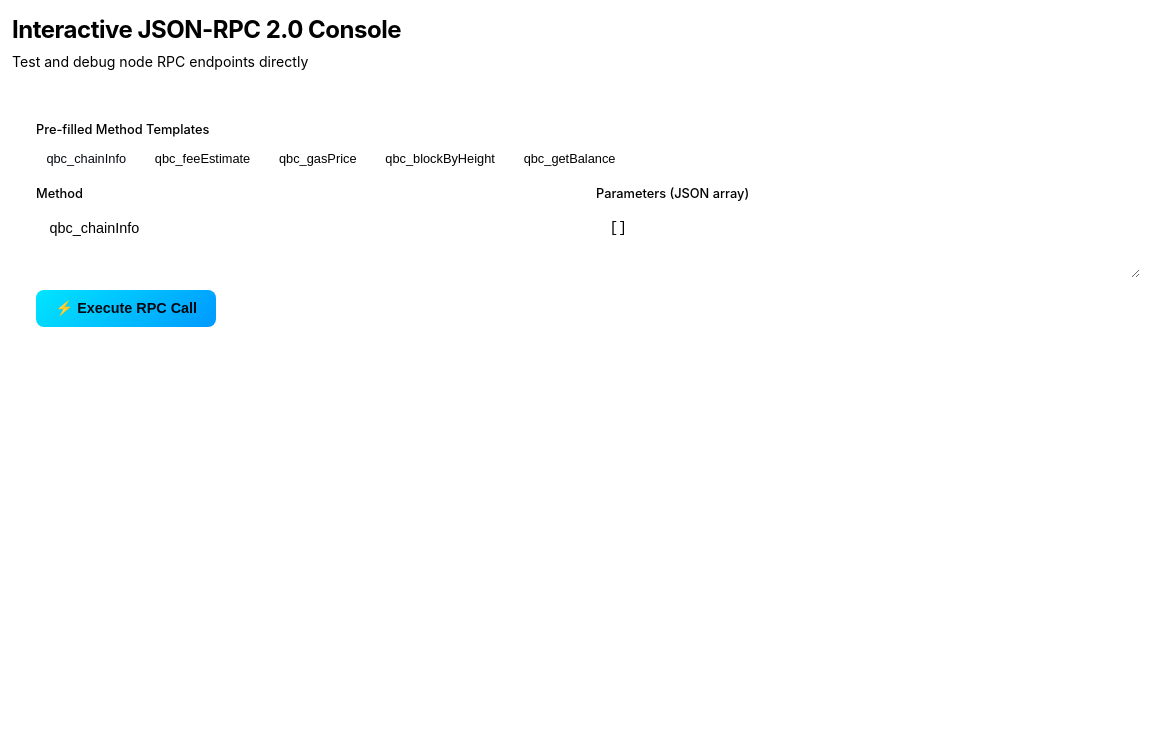
Scenario: React Component Suite (TDD) › RpcConsoleTab executes custom RPC method and displays result
The image size is (1164, 732).
Click the button "⚡ Execute RPC Call" at (126, 308), box [36,290,216,327]
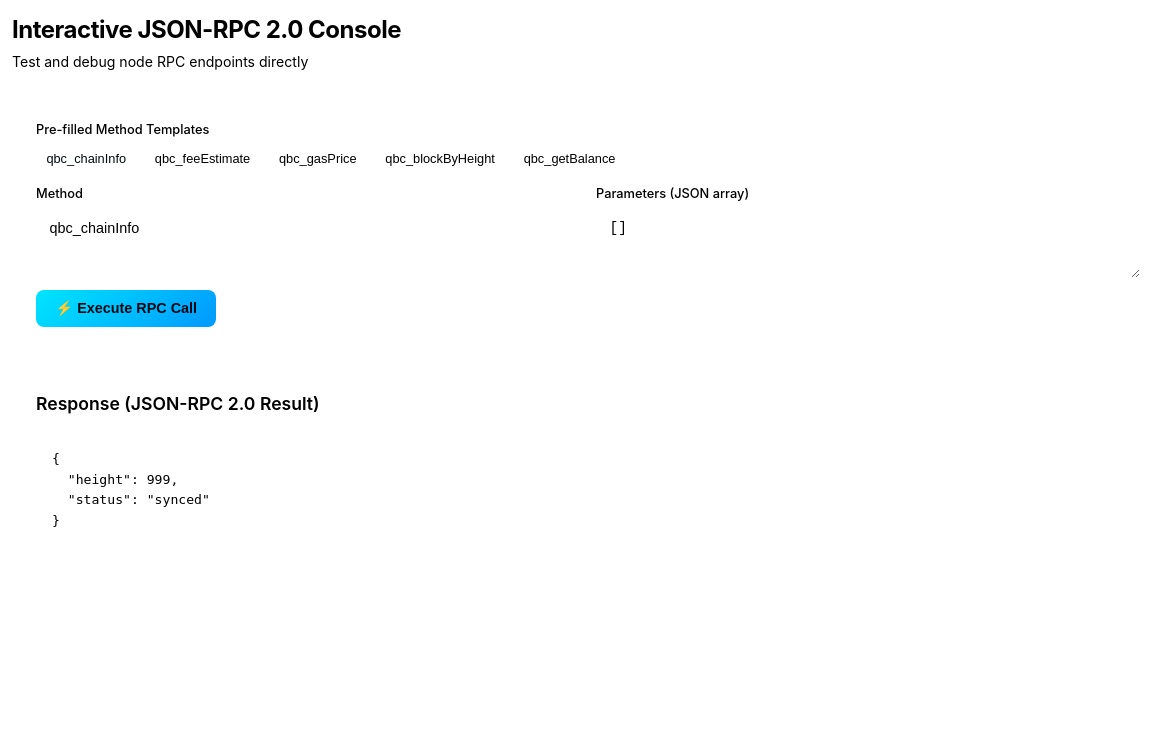
Expected: the text "{ \"height\": 999, \"status\": \"synced\" }" is shown, [52,451,210,528]
